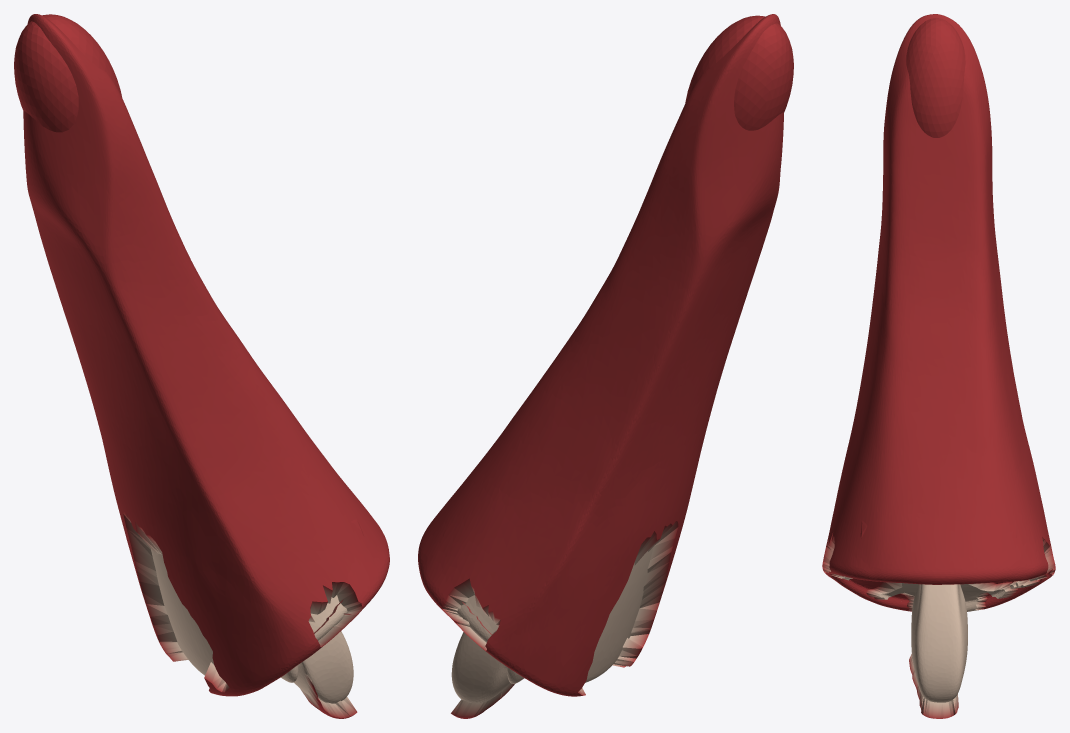
The model's file is arm_L.glb.
3 views of the same model, side by side, from view 1: azimuth 30°, elevation 25°; view 2: azimuth 150°, elevation 25°; view 3: azimuth 270°, elevation 25° (orthographic). The views are drawn at different scales.
Visible parts, largest first — view 1: geometry_0; view 2: geometry_0; view 3: geometry_0.
Part boxes in pixels (box(x1,y1,x2,y2)): geometry_0: box(14, 14, 389, 718); geometry_0: box(418, 14, 793, 718); geometry_0: box(822, 14, 1055, 718).
Bounding box in the file's own units: 0.3059 × 0.6534 × 0.2333.
